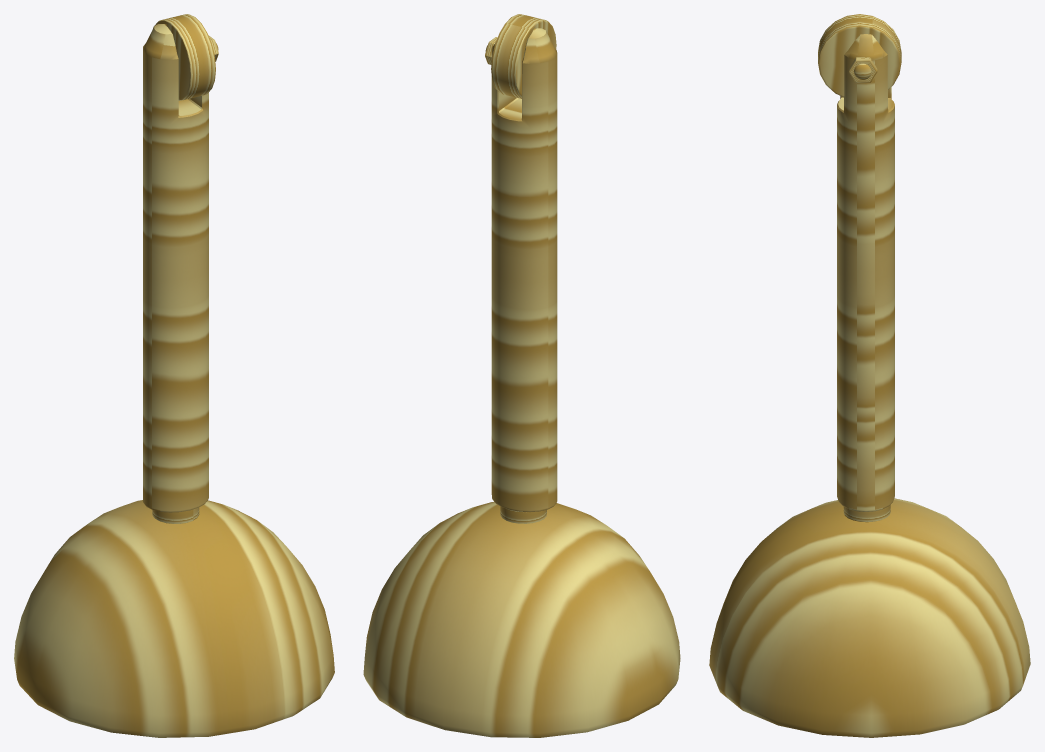
File: left foot.obj
The picture shows the model from 3 angles, left to right: view 1: azimuth 30°, elevation 25°; view 2: azimuth 150°, elevation 25°; view 3: azimuth 270°, elevation 25°; orthographic projection.
Visible parts, largest first — view 1: Blake_left_leg_left_leg_foot, Blake_left_leg_left_leg_down, Blake_left_leg_left_leg_knee, Blake_left_foot_connector; view 2: Blake_left_leg_left_leg_foot, Blake_left_leg_left_leg_down, Blake_left_leg_left_leg_knee, Blake_left_foot_connector; view 3: Blake_left_leg_left_leg_foot, Blake_left_leg_left_leg_down, Blake_left_leg_left_leg_knee.
Boxes of the visible parts, x1=… form: Blake_left_leg_left_leg_foot: x1=14, y1=500, x2=334, y2=737; Blake_left_leg_left_leg_down: x1=143, y1=24, x2=208, y2=512; Blake_left_leg_left_leg_knee: x1=153, y1=14, x2=215, y2=100; Blake_left_foot_connector: x1=152, y1=507, x2=199, y2=523; Blake_left_leg_left_leg_foot: x1=363, y1=502, x2=680, y2=737; Blake_left_leg_left_leg_down: x1=491, y1=28, x2=557, y2=511; Blake_left_leg_left_leg_knee: x1=491, y1=14, x2=556, y2=98; Blake_left_foot_connector: x1=500, y1=506, x2=546, y2=523; Blake_left_leg_left_leg_foot: x1=709, y1=498, x2=1030, y2=737; Blake_left_leg_left_leg_down: x1=837, y1=34, x2=894, y2=511; Blake_left_leg_left_leg_knee: x1=818, y1=14, x2=901, y2=97.
Size of the model in its own units: 1.97 by 4.43 by 1.97.
